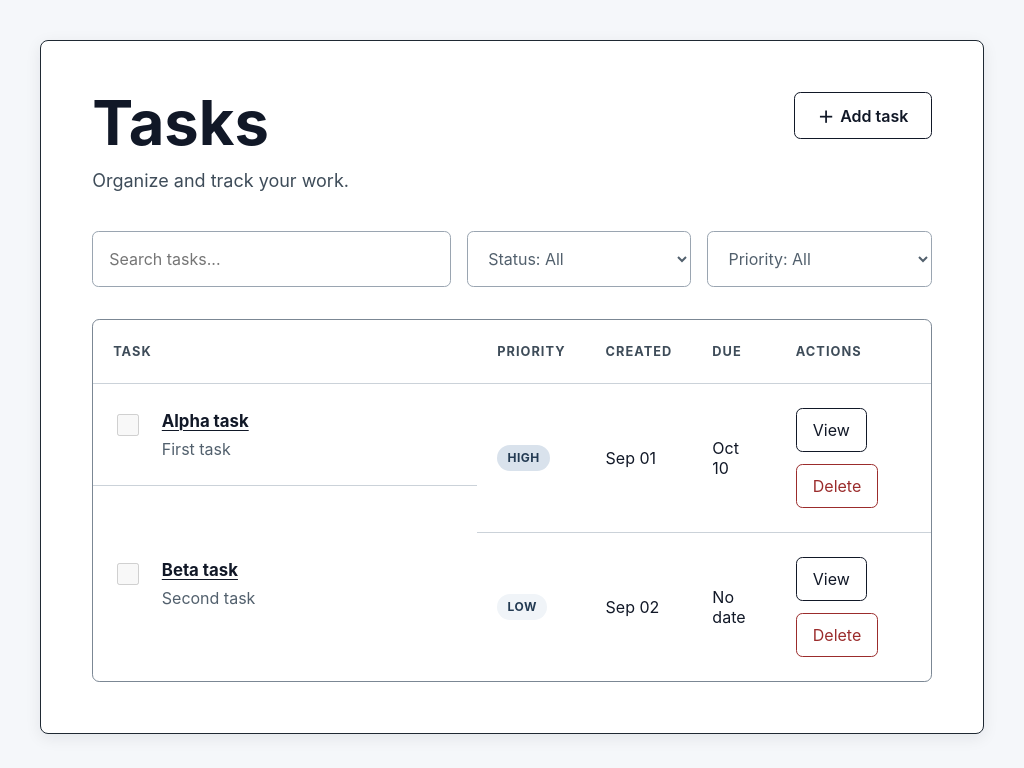
TasksListPage deletion › opens the confirmation dialog for the selected task
Step 1. Click the button with aria-label "Delete Alpha task" → [837, 486], box [796,464,878,508]
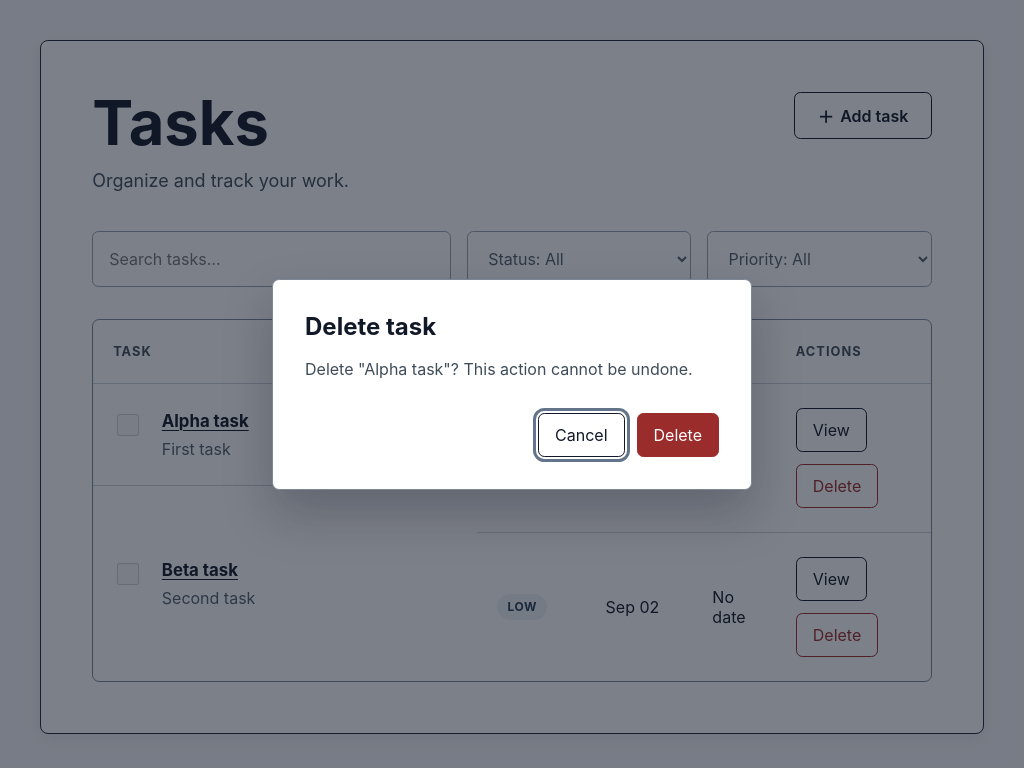
Check: the dialog "Delete task" is shown, box [272,278,752,490]
Check: the text "Delete \"Alpha task\"? This action cannot be undone." is shown, box [305,356,719,380]
